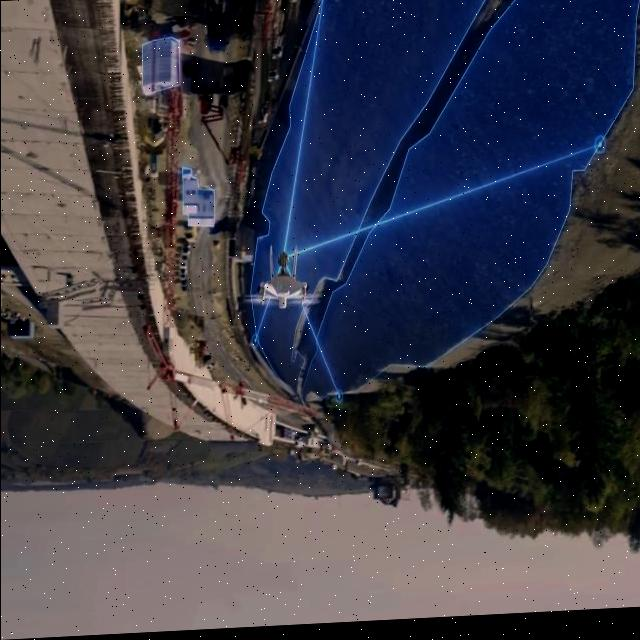drone: (244, 243, 322, 318)
